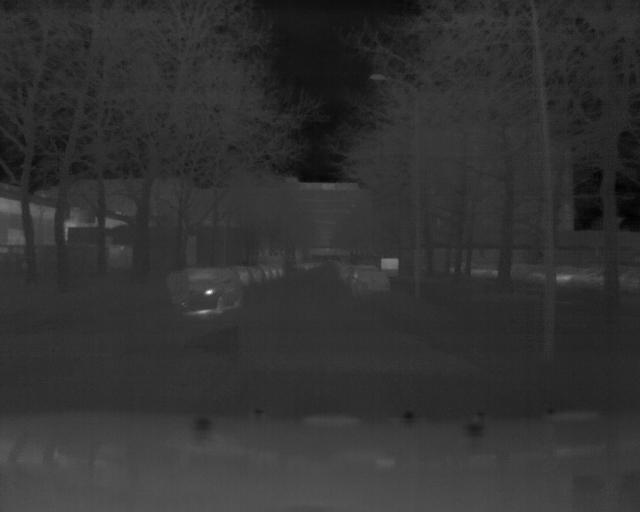car: (161, 266, 240, 318), (345, 266, 396, 302)
